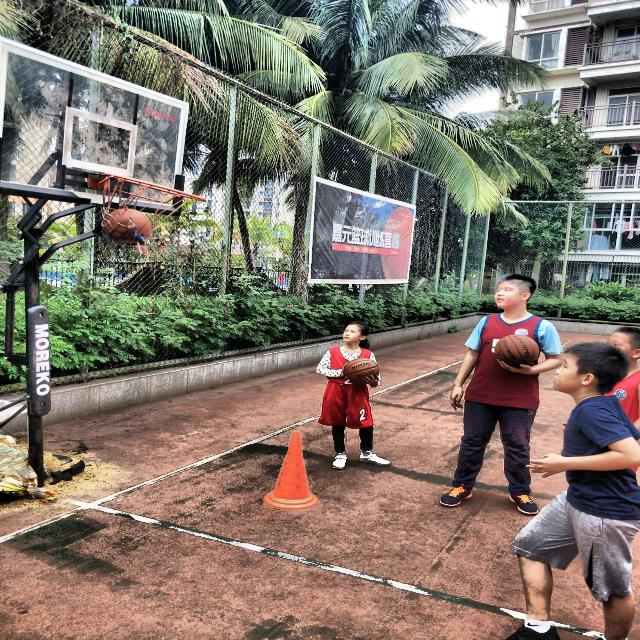board: (92, 202, 162, 251), (494, 334, 540, 369), (344, 357, 379, 385)
rim: (74, 160, 221, 266)
